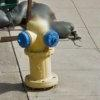Hydrant: (14, 11, 66, 93)
